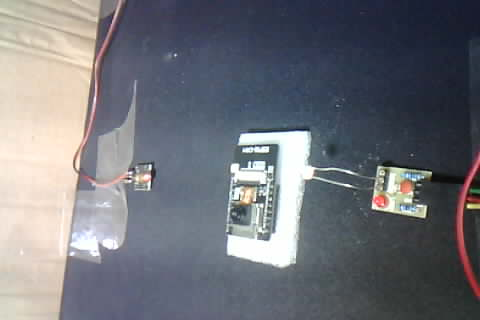esp32: (220, 129, 302, 264)
